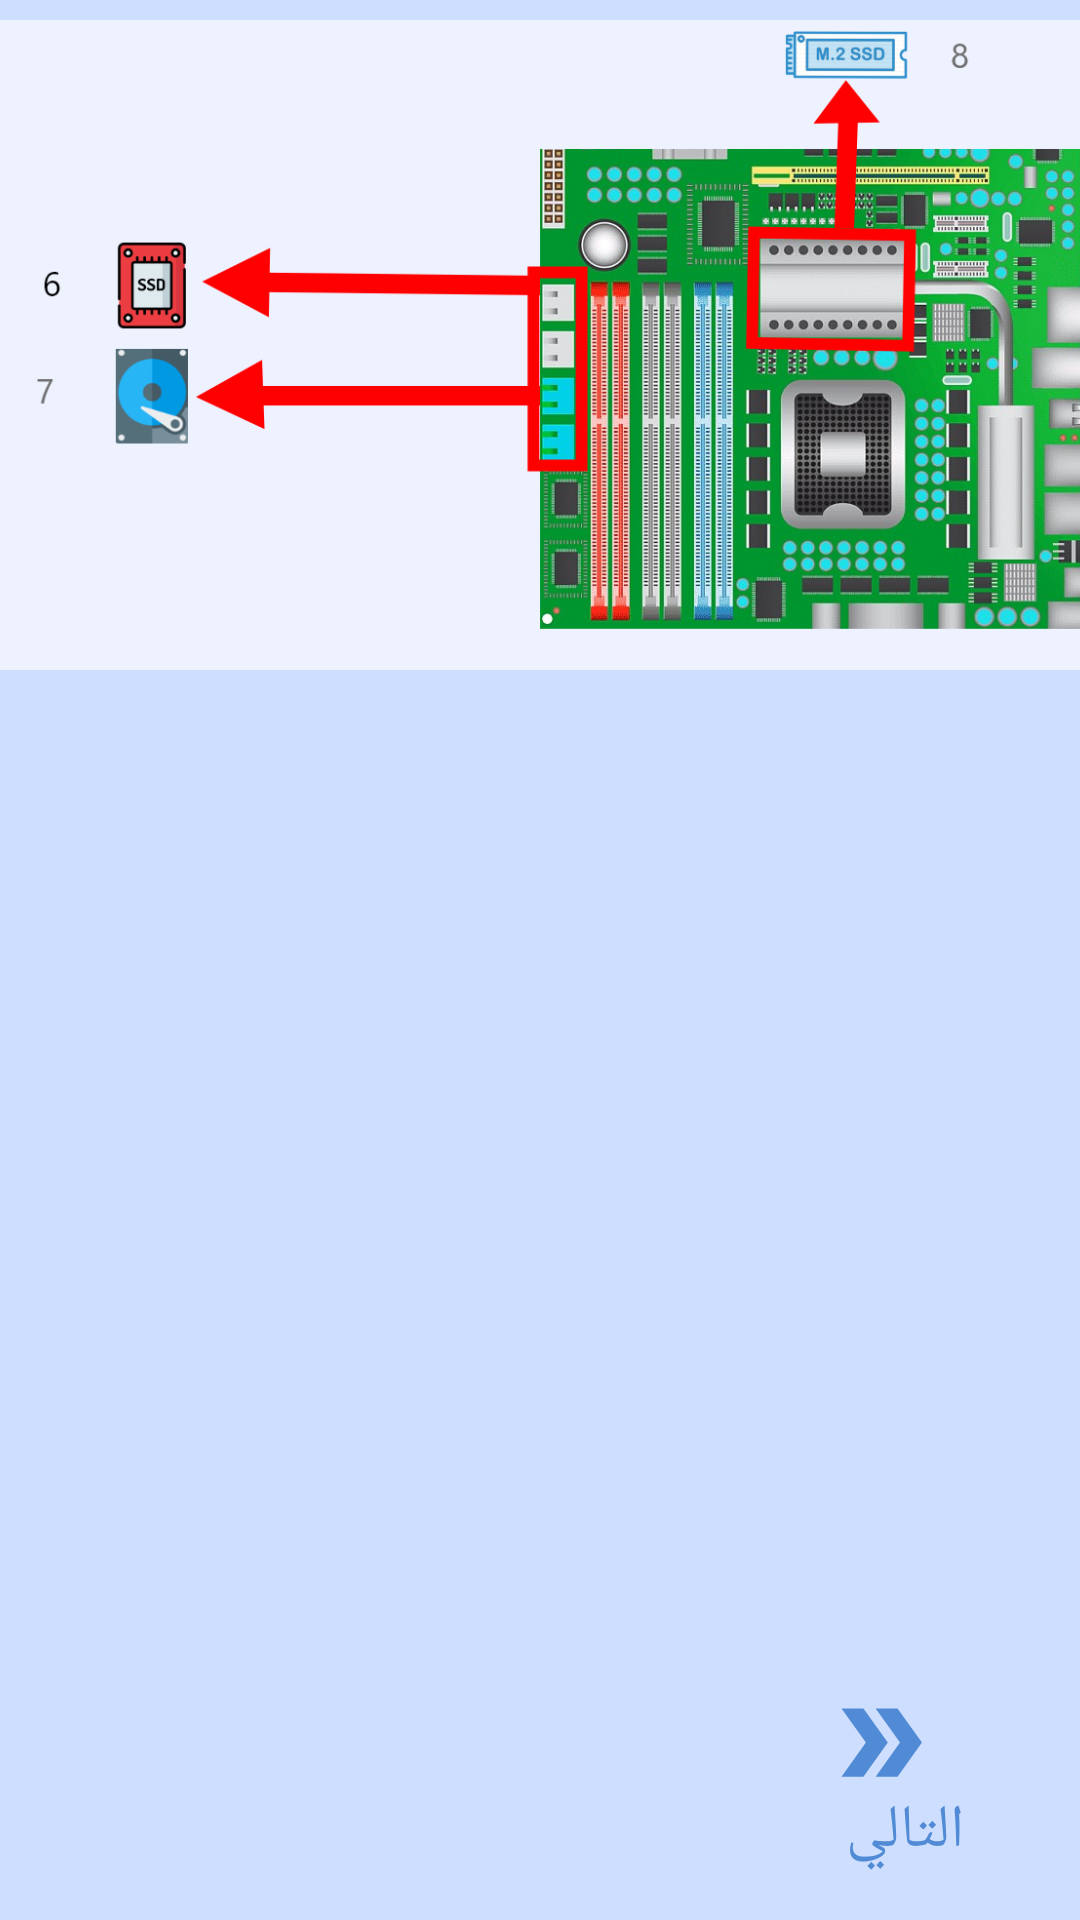

Screen size 1080px×1920px. Icon name, then its box in pixels as (x1,y1,x2,y2):
skip: (842,1708,922,1777)
